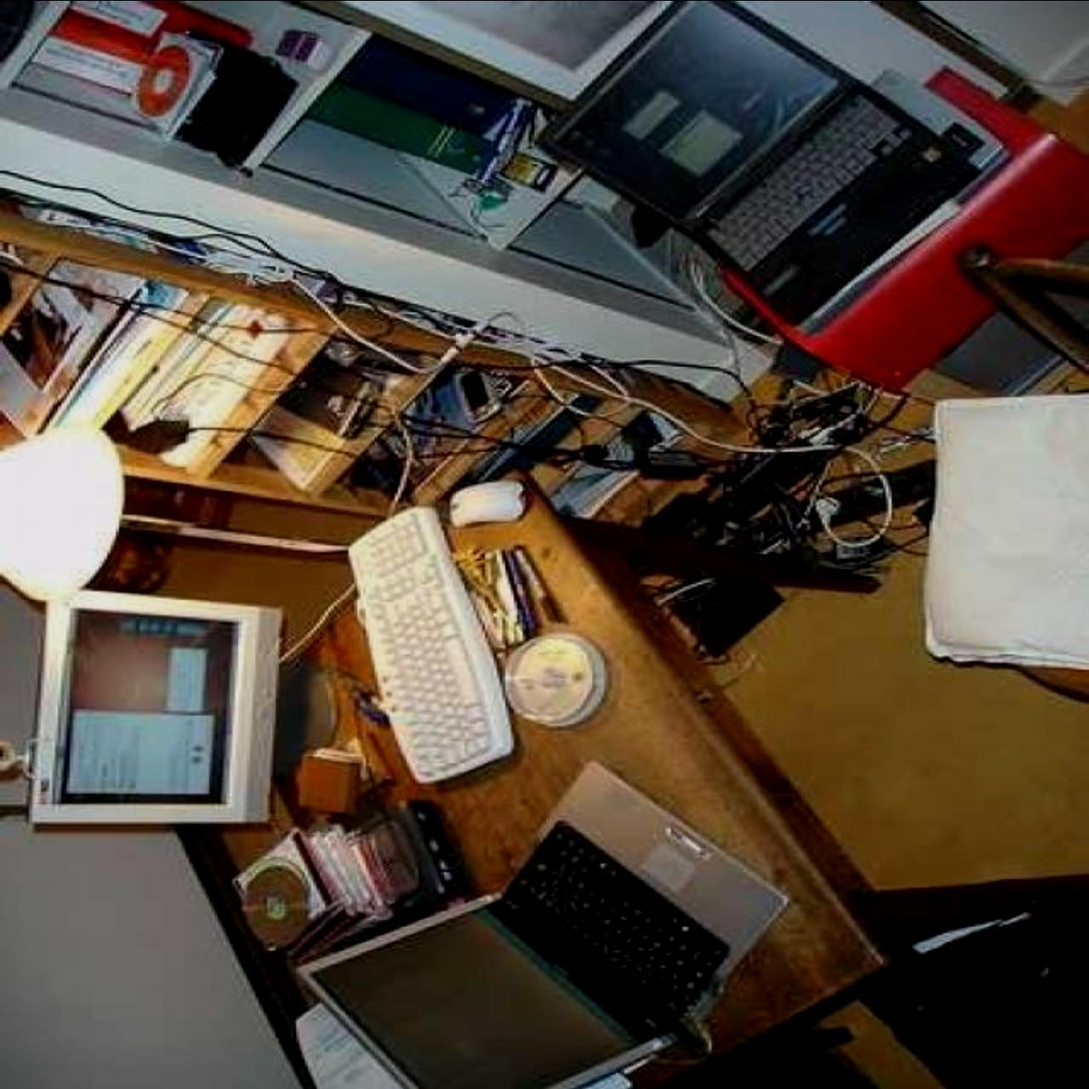laptop: (315, 779, 798, 1089), (541, 0, 970, 335)
